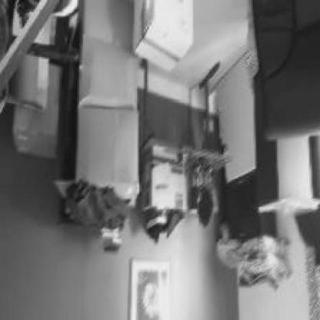other: (2, 234, 234, 317)
